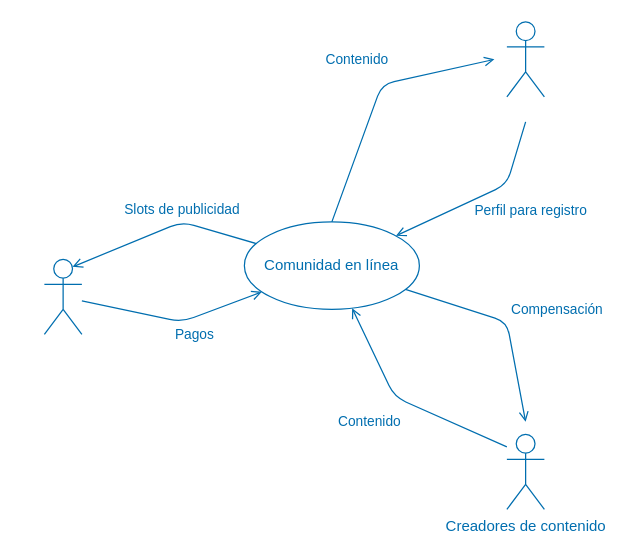
Image size: 634x558. Some labels were removed from this diagram. Each missing label, with the centre of its shape:
"Anunciantes" goes at point 62,296.
"Usuarios de la comunidad" goes at point 525,59.
